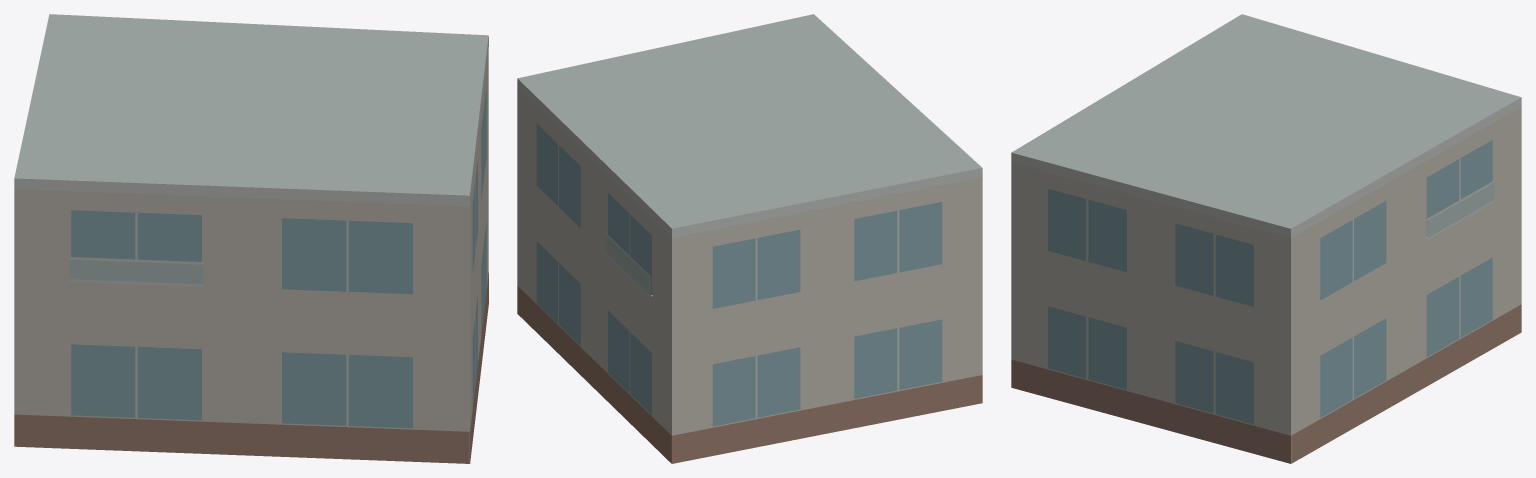
Rendered from survey-upis-32651996.glb.
3 views of the same model, side by side, from view 1: azimuth 30°, elevation 25°; view 2: azimuth 150°, elevation 25°; view 3: azimuth 270°, elevation 25° (orthographic). The views are drawn at different scales.
Visible parts, largest first — view 1: survey-upis-32651996.tmp; view 2: survey-upis-32651996.tmp; view 3: survey-upis-32651996.tmp.
Boxes of the visible parts, x1,y1,x2,y2 form: survey-upis-32651996.tmp: [14, 14, 488, 463]; survey-upis-32651996.tmp: [517, 14, 982, 463]; survey-upis-32651996.tmp: [1011, 14, 1521, 463].
Size of the model in its own units: 11.97 by 6.1 by 12.01.
